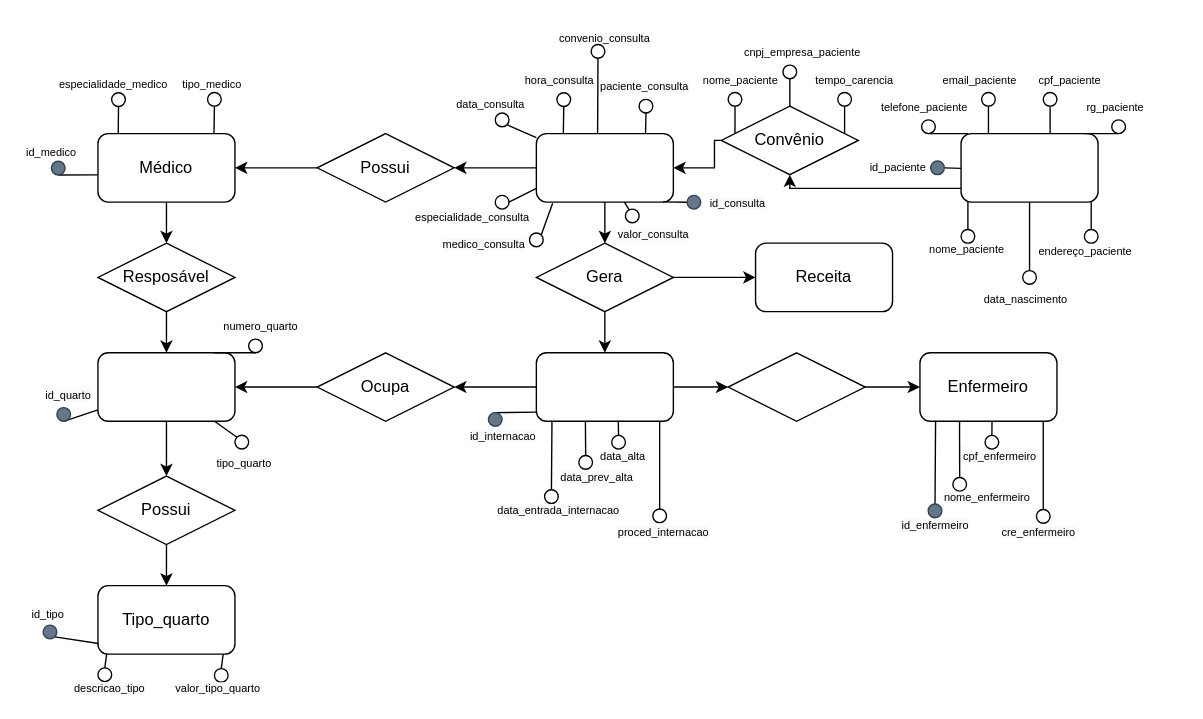
Image size: 1203x719. Some labels were removed from this diagram. Here are the shapes that lost their labels. From the top down, the centre of each, then its label:
At pixel 604 167: "Consulta".
At pixel 1029 167: "Paciente".
At pixel 166 386: "Quarto".
At pixel 604 386: "Internação".
At pixel 796 386: "Requer".
